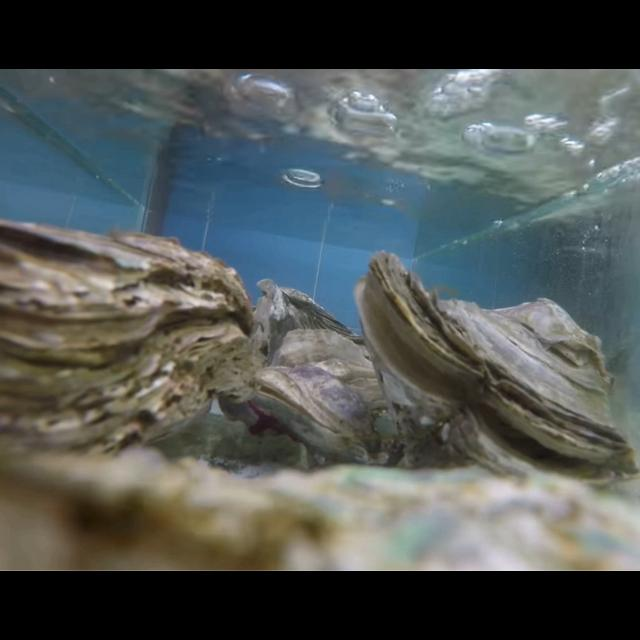Oyster-Closed: (0, 446, 640, 572), (0, 218, 252, 471), (252, 278, 368, 369)
Oyster-Open: (356, 250, 640, 488), (251, 330, 405, 468)
